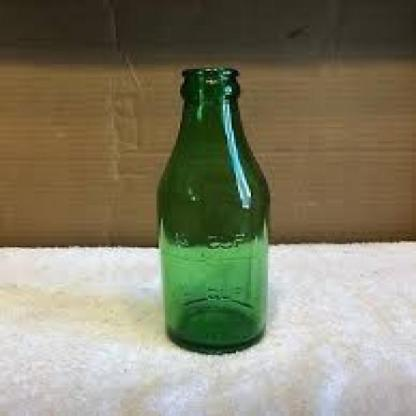Can: (158, 66, 270, 356)
